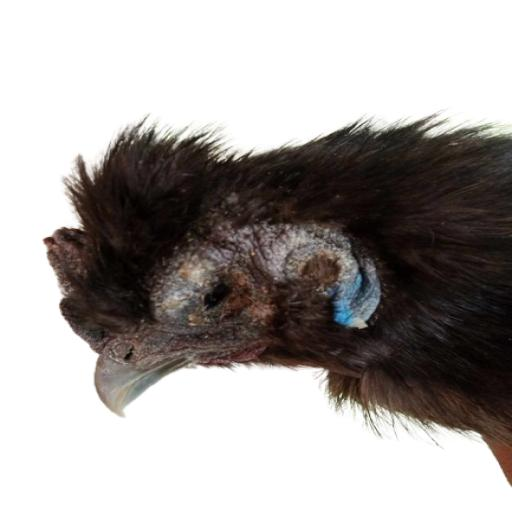disease: (126, 210, 267, 352)
